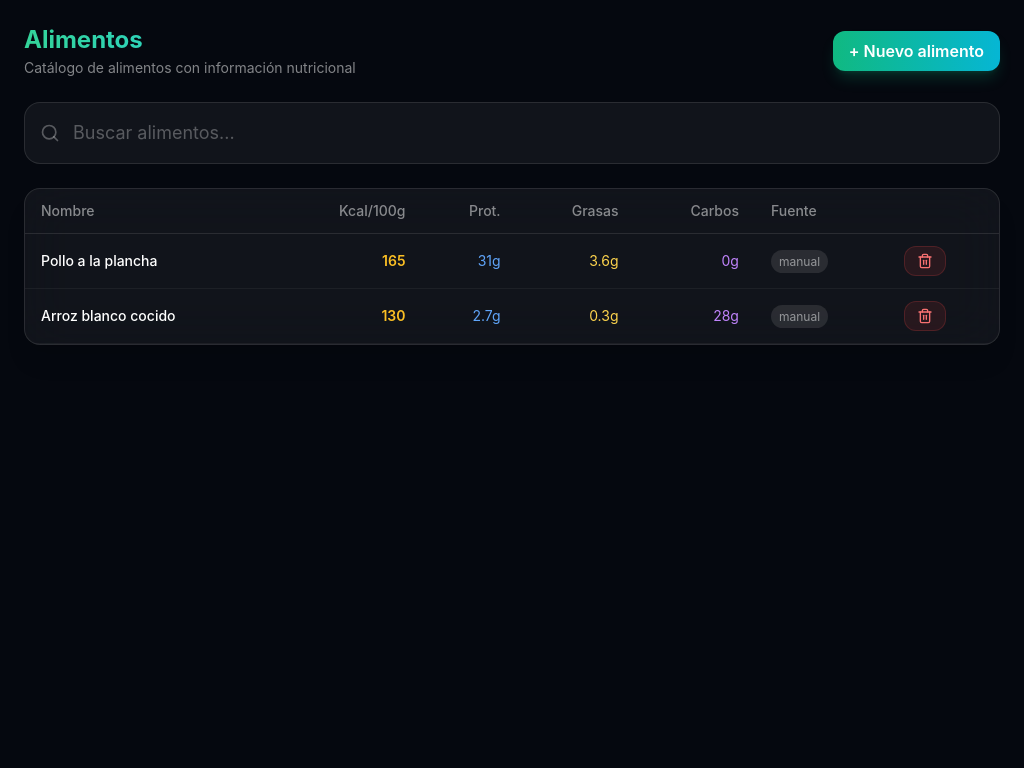
it: Alimentos › shows create form when "+ Nuevo alimento" is clicked
Click the button "+ Nuevo alimento" at (916, 51), box [833,31,1000,71]
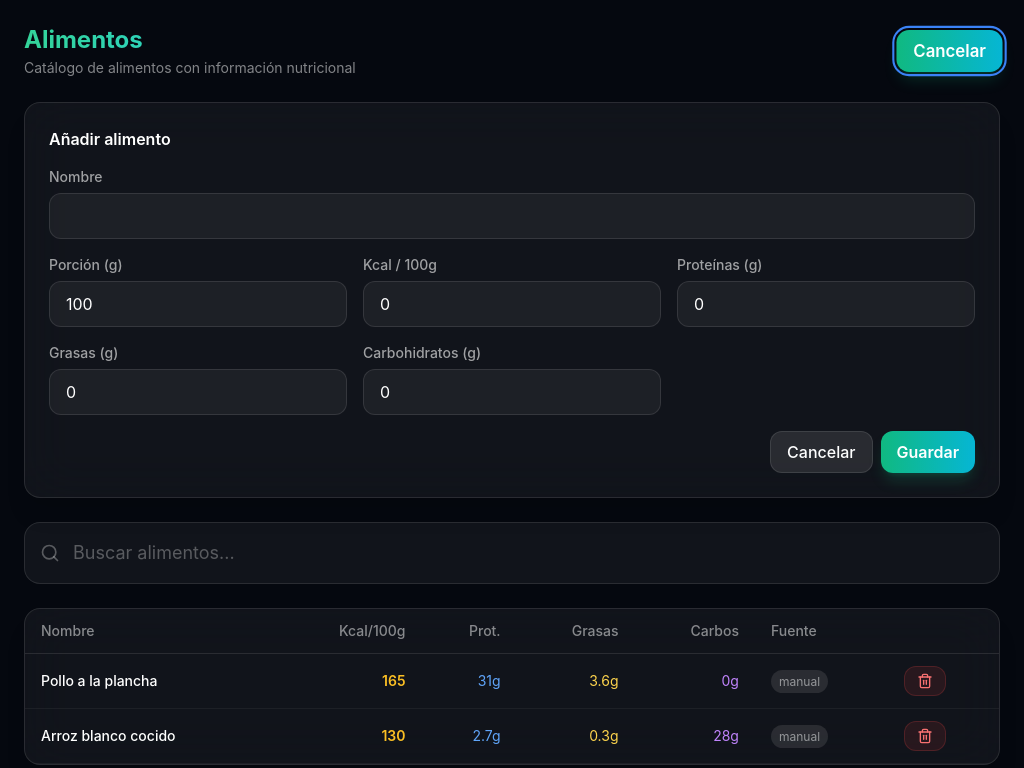
Expected: the heading "Añadir alimento" is shown, [49,129,171,149]
